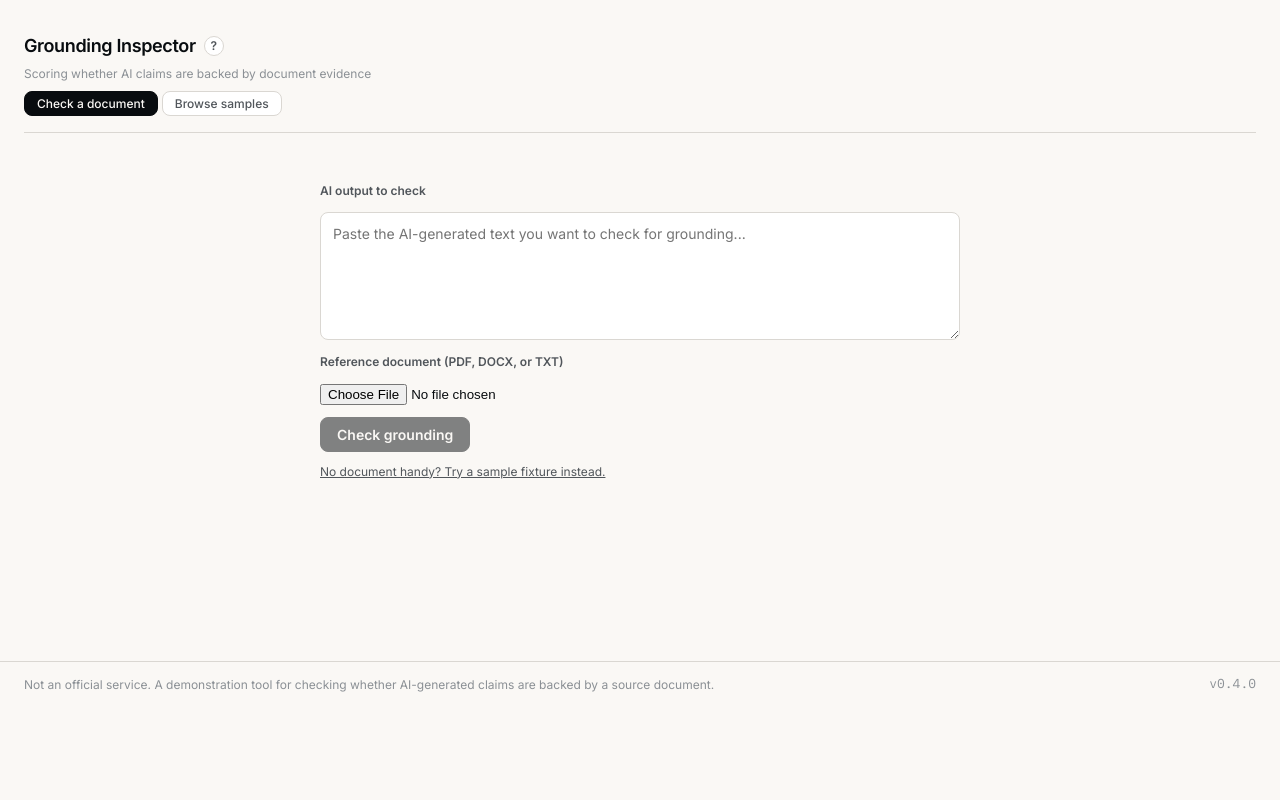
view navigation › offers a way back to the upload view from browse mode
Click the button with class "sample-link" at (463, 471), box [320,464,606,478]
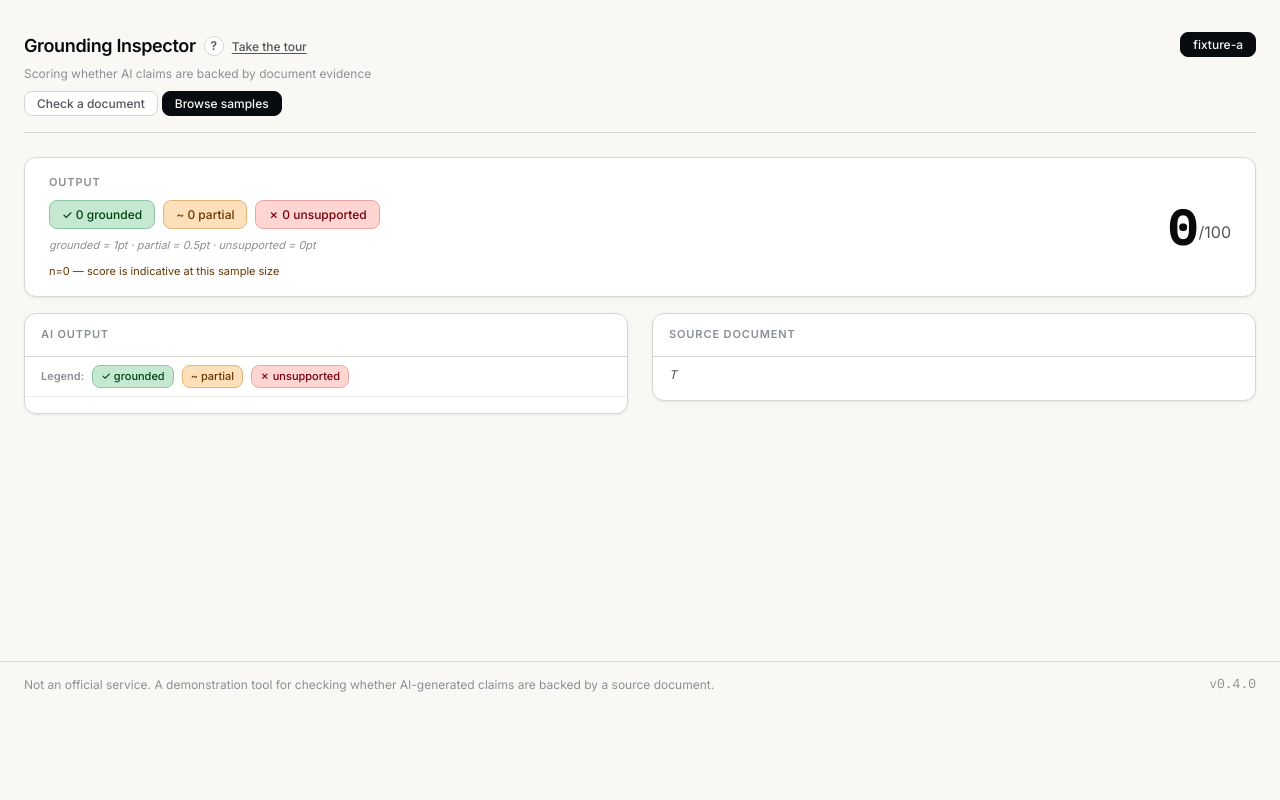
Result: the navigation bar with class "fixture-nav" is shown at [1180,32,1256,57]
Click the button with test id "nav-check" at (91, 104), box [24,91,158,116]
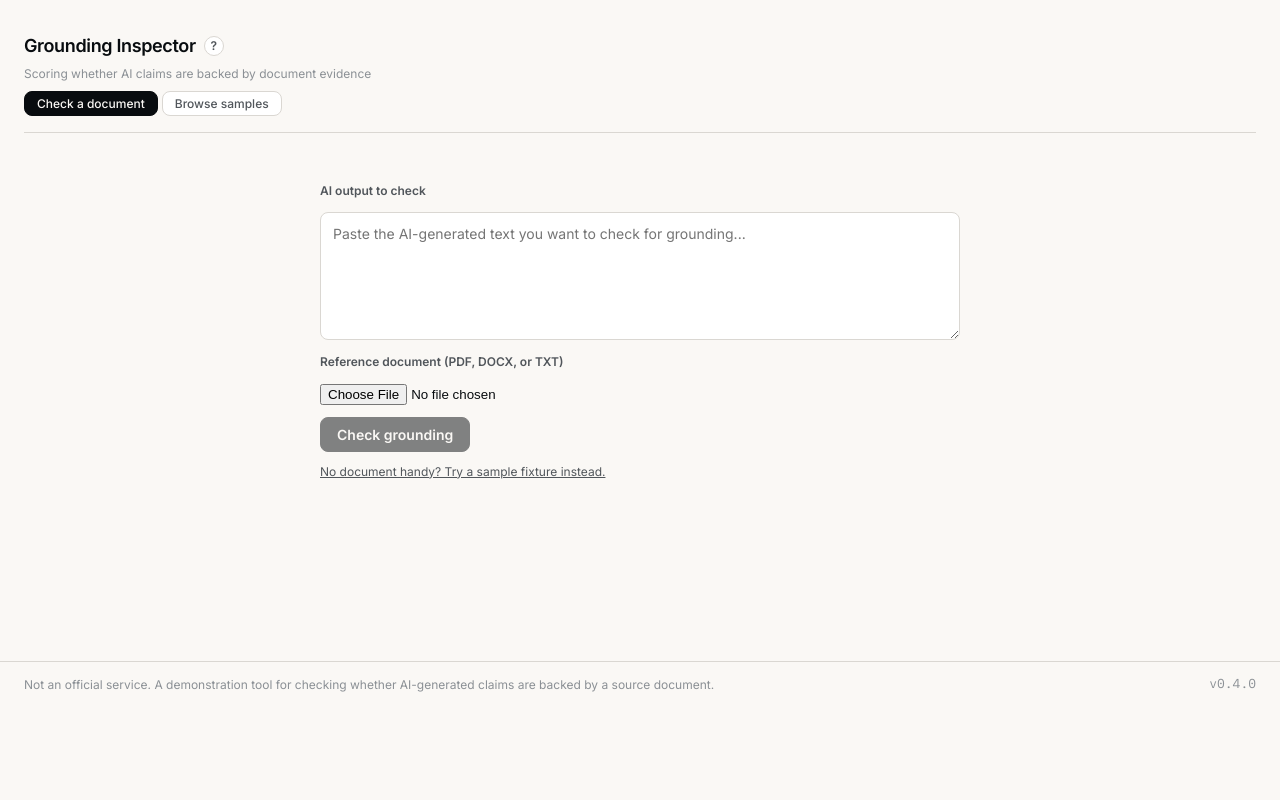
Result: the text box with test id "ai-output-input" is shown at [320,212,960,340]
